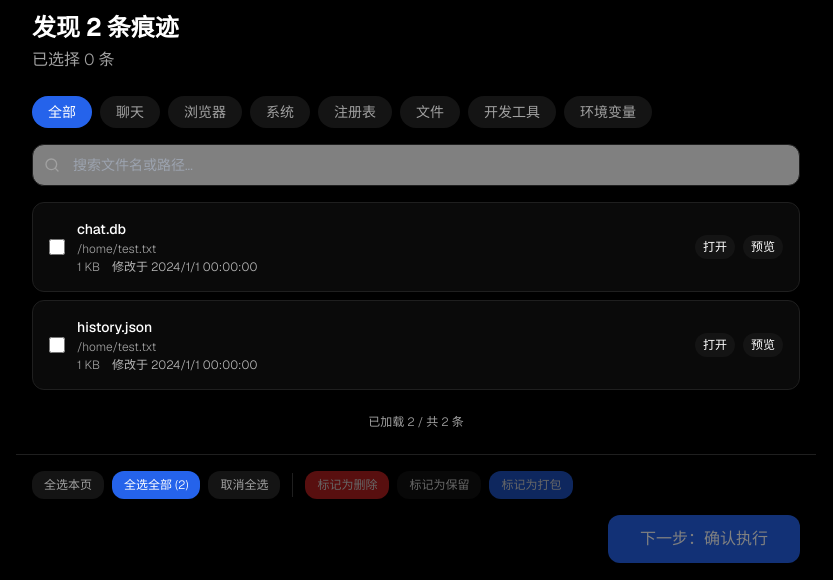
ResultsPage › filters by category tab
Expected: the text "chat.db" is shown, [77,219,126,239]
Expected: the text "history.json" is shown, [77,317,152,337]
// Click "Browser" tab
Step 1. Click the button "浏览器" → (205,112), box [168,96,242,128]
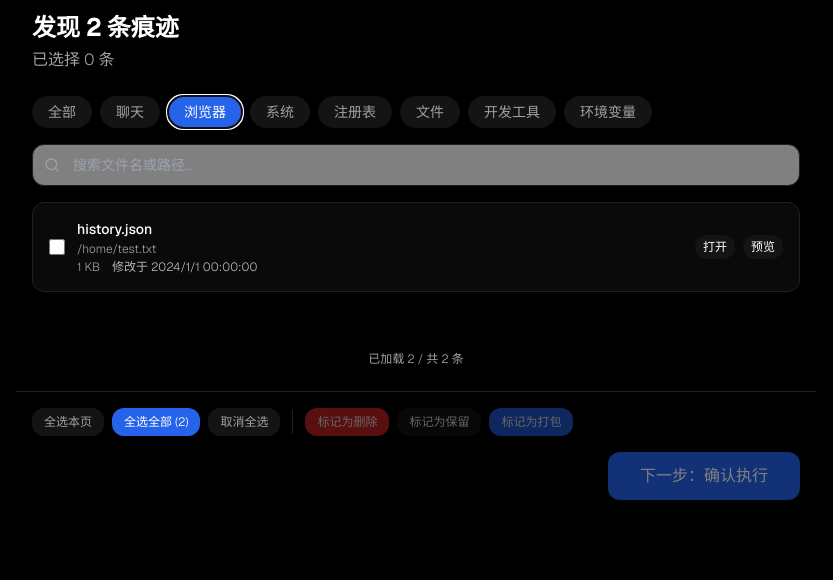
Expected: the text "history.json" is shown, [77,219,152,239]
Now the text "chat.db" is gone
